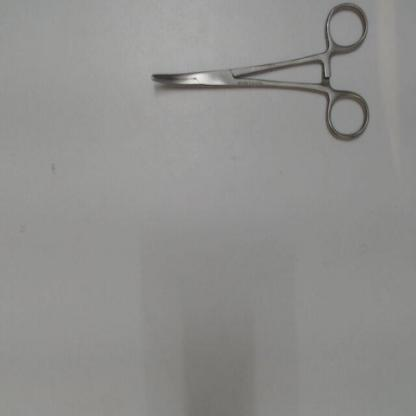Crile Artery Forceps: (140, 2, 377, 152)
